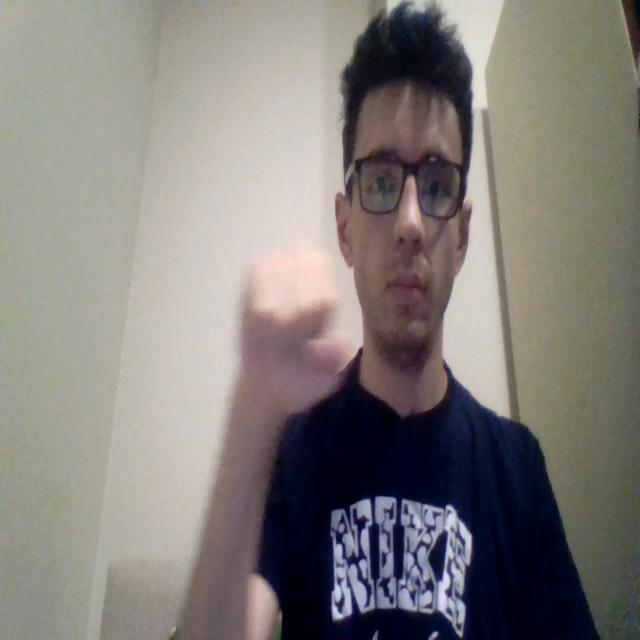yes: (238, 249, 349, 414)
